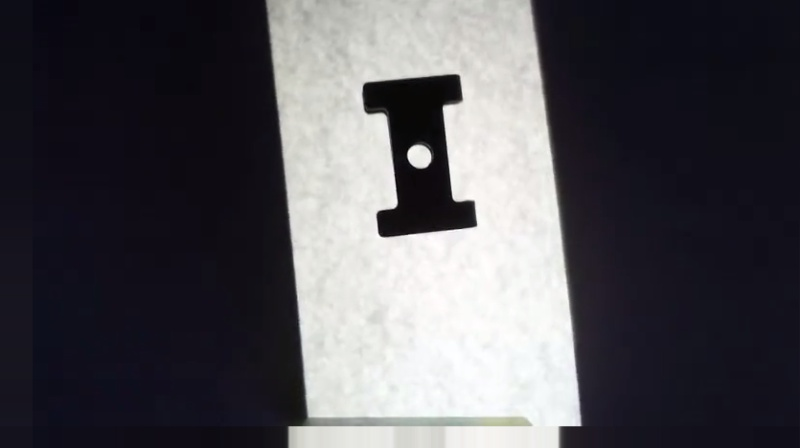O002: (358, 69, 482, 246)
